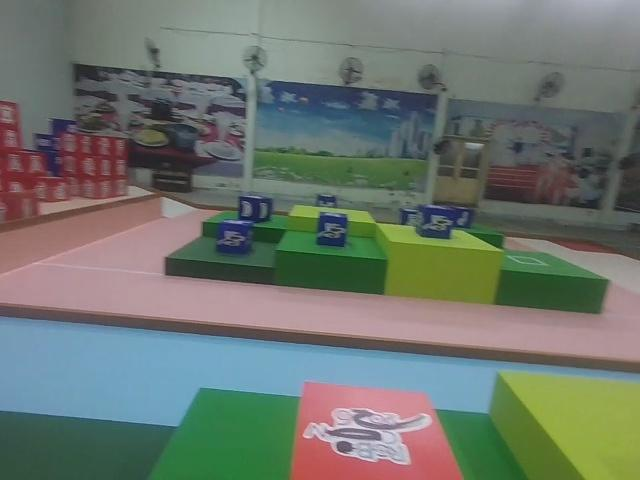R1: (285, 376, 465, 480)
